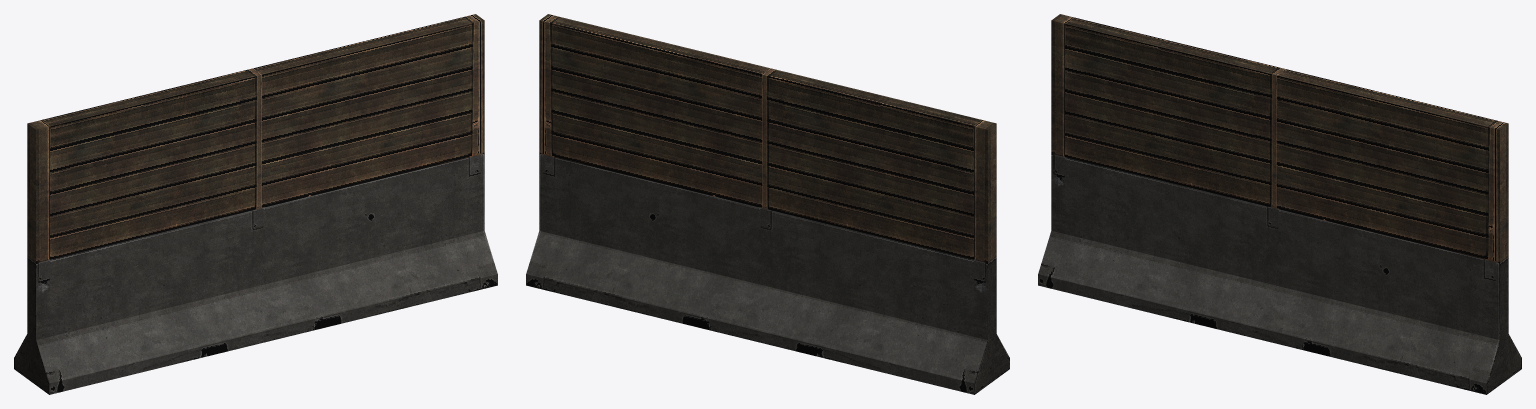
File: barricade_b_2.glb
3 views of the same model, side by side, from view 1: azimuth 30°, elevation 25°; view 2: azimuth 150°, elevation 25°; view 3: azimuth 330°, elevation 25° (orthographic).
Visible parts, largest first — view 1: barricade_b_2; view 2: barricade_b_2; view 3: barricade_b_2.
Boxes of the visible parts, x1,y1,x2,y2 form: barricade_b_2: (14,14,497,394); barricade_b_2: (526,14,1009,394); barricade_b_2: (1038,14,1521,394).
Bounding box in the file's own units: 2.94 × 1.6 × 0.4.
1 material, 1 textured.
